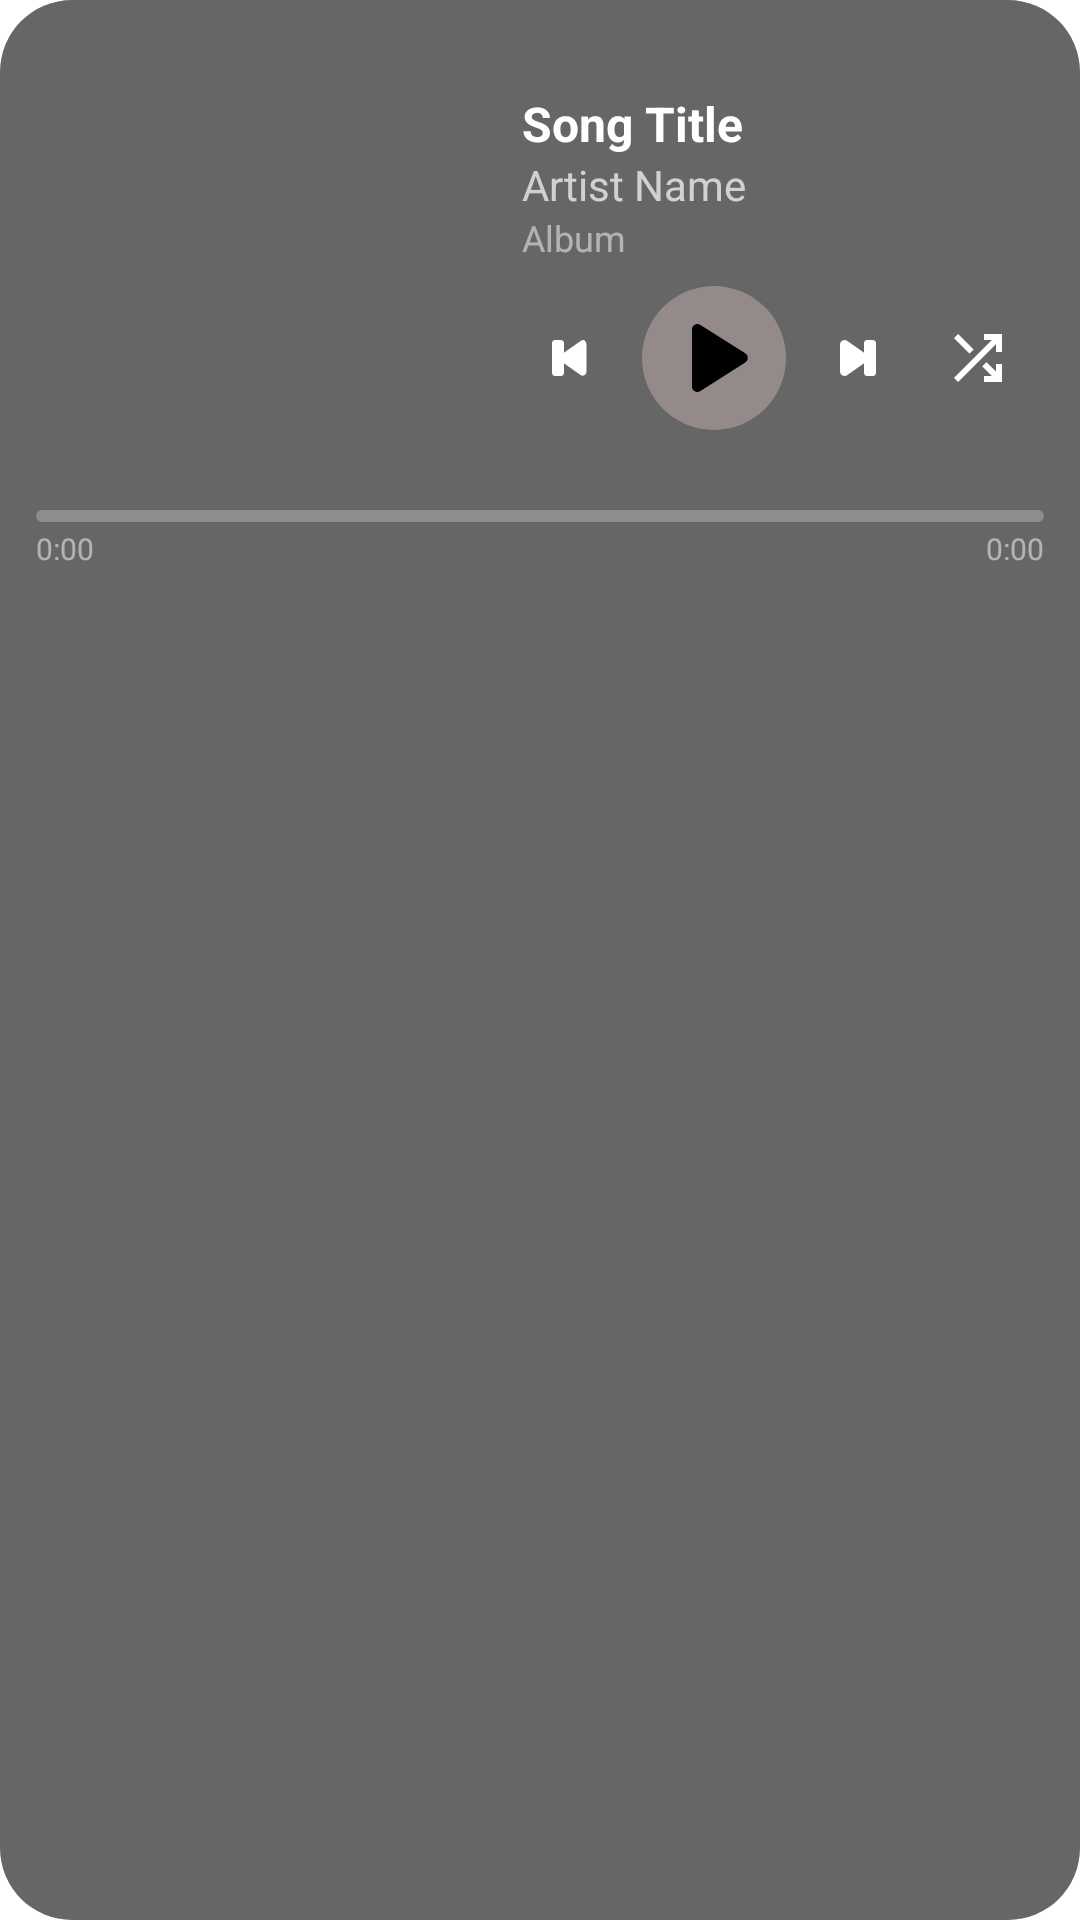

Icon bounding boxes for this 1080 x 1920 phone screenshot, format detection(x1, y1, x2, y2):
Next: detection(840, 340, 876, 376)
Play/Pause: detection(642, 286, 786, 430)
Previous: detection(552, 340, 587, 376)
Shuffle: detection(954, 334, 1002, 382)
